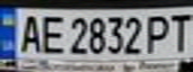2: (63, 14, 90, 56), (124, 12, 148, 55)
3: (106, 14, 127, 56)
8: (87, 14, 109, 56)
A: (15, 11, 45, 53)
E: (36, 11, 66, 55)
P: (145, 11, 175, 54)
T: (166, 10, 193, 53)
